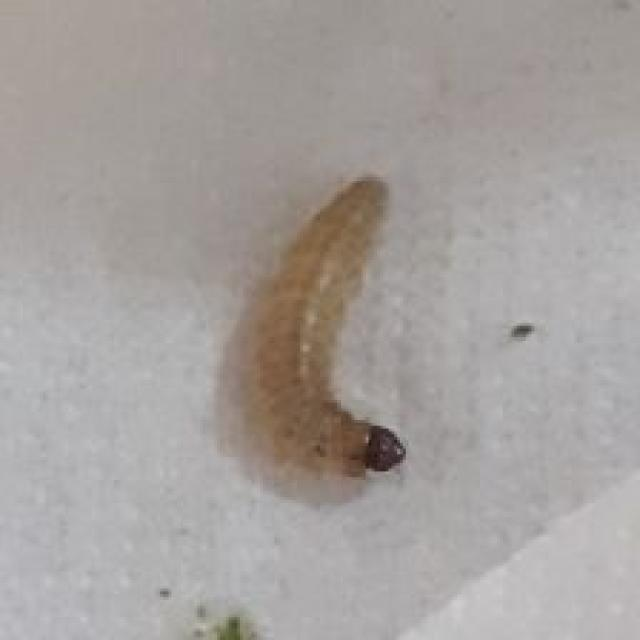white mucus: (233, 158, 467, 503)
